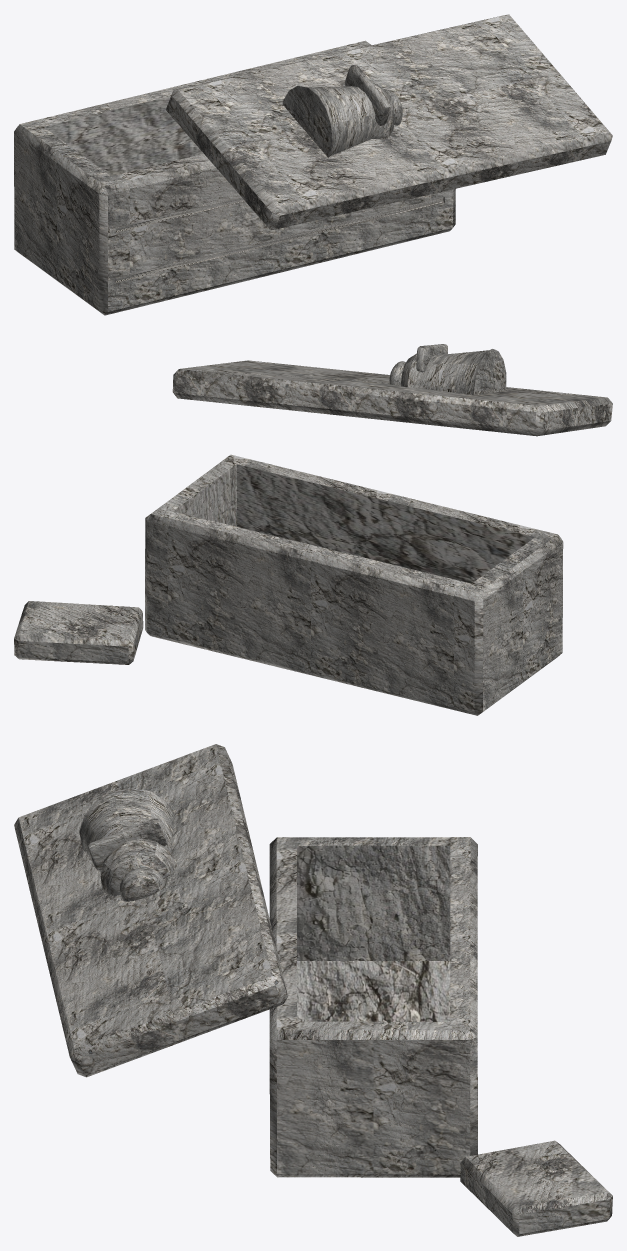
Rendered from sarcophagus-broken-lid-v02.glb.
3 renders of one model, top to bottom at view 1: azimuth 30°, elevation 25°; view 2: azimuth 150°, elevation 25°; view 3: azimuth 270°, elevation 25°, orthographic. The views are drawn at different scales.
Parts seen in each view (by area): view 1: sarcophagus-broken-lid; view 2: sarcophagus-broken-lid; view 3: sarcophagus-broken-lid.
Boxes of the visible parts, bbox=[...] form: sarcophagus-broken-lid: bbox=[14, 14, 612, 315]; sarcophagus-broken-lid: bbox=[14, 344, 612, 715]; sarcophagus-broken-lid: bbox=[14, 744, 612, 1236].
Bounding box in the file's own units: 3.38 × 1.68 × 3.32.
Materials: 1 (1 with a texture image).
